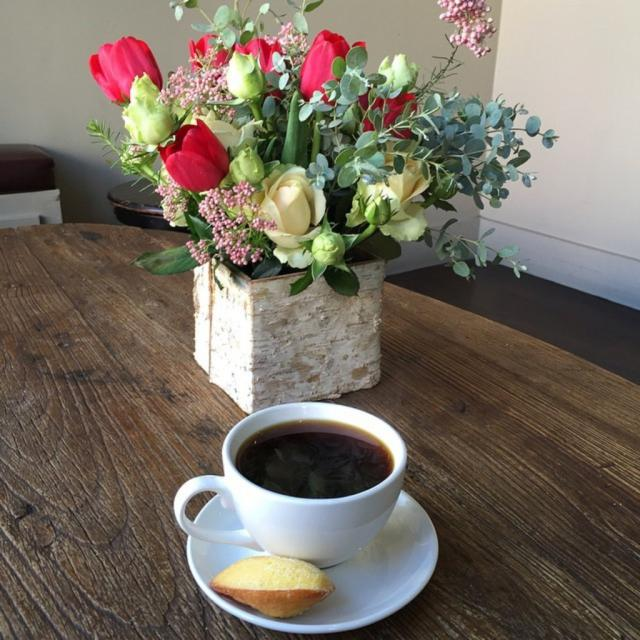Coffee: (235, 415, 395, 498)
Tea: (231, 422, 394, 501)
